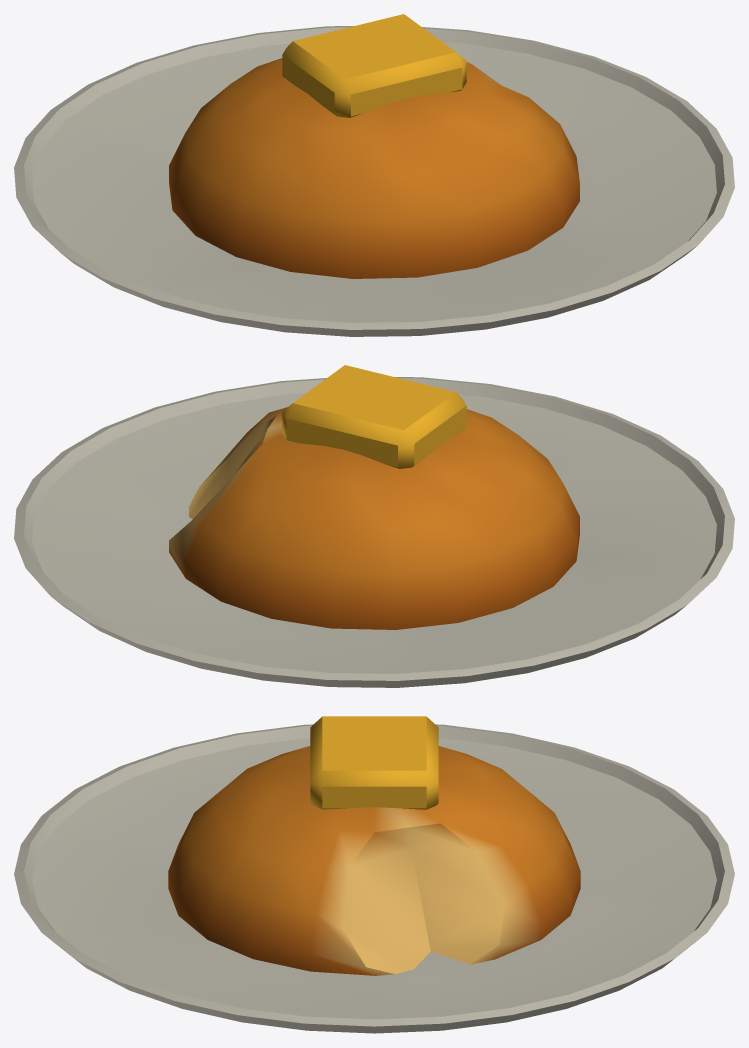
Rendered from food-pineapple-bun-s1.glb.
3 renders of one model, top to bottom at view 1: azimuth 30°, elevation 25°; view 2: azimuth 150°, elevation 25°; view 3: azimuth 270°, elevation 25°, orthographic.
Visible parts, largest first — view 1: plate__ceramic, bun__food, butter__food; view 2: plate__ceramic, bun__food, butter__food; view 3: plate__ceramic, bun__food, butter__food.
Part boxes in pixels (x1,y1,x2,y2): plate__ceramic: (14, 26, 734, 336); bun__food: (169, 58, 579, 278); butter__food: (282, 14, 466, 117); plate__ceramic: (14, 377, 734, 687); bun__food: (169, 407, 579, 629); butter__food: (282, 365, 466, 468); plate__ceramic: (14, 724, 734, 1033); bun__food: (168, 746, 580, 975); butter__food: (310, 716, 438, 809).
Size of the model in its own units: 0.18 by 0.048 by 0.18.
